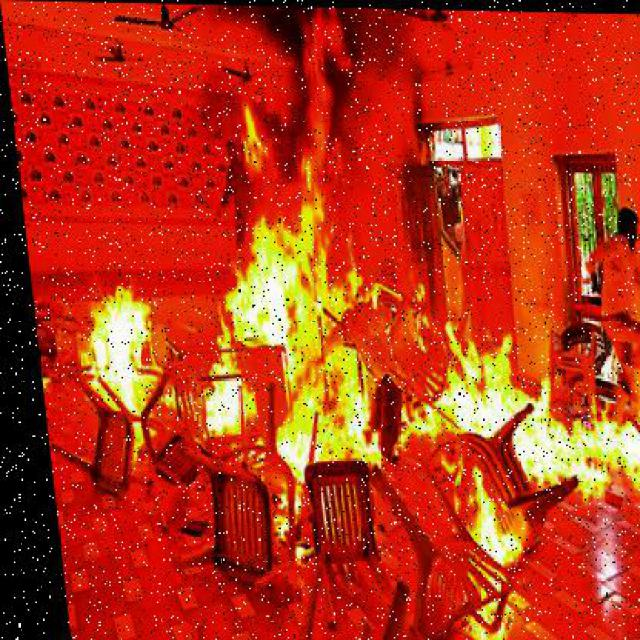fire: (155, 4, 387, 527), (358, 360, 639, 614), (62, 283, 168, 437)
